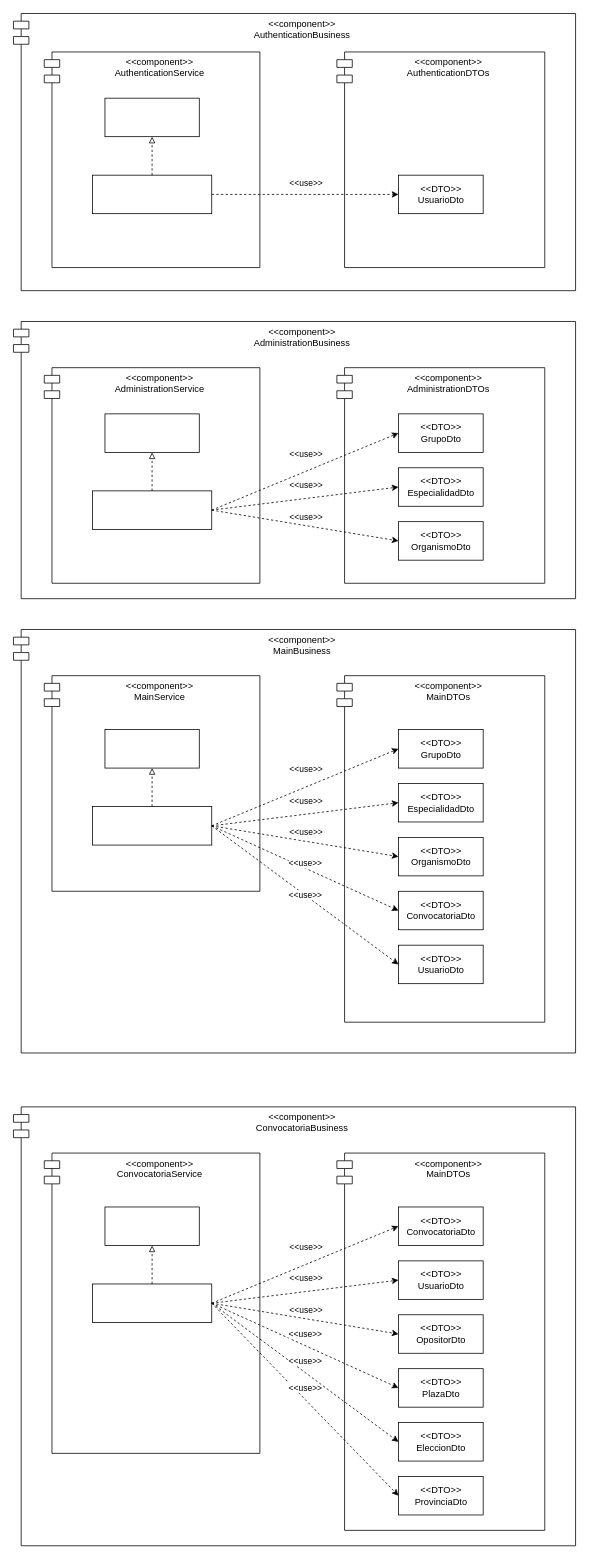
Image size: 589x1559. Some labels were removed from this diagram. Here are the shapes that lost their labels. From the top down, the centre of each, then its label:
the point at 151,117: <<Interface>> AuthenticationService
the point at 152,194: <<Implementation>> AuthenticationServiceImpl
the point at 151,432: <<Interface>> AdministrationService
the point at 152,509: <<Implementation>> AdministrationServiceImpl
the point at 151,748: <<Interface>> MainService
the point at 152,825: <<Implementation>> MainServiceImpl
the point at 151,1225: <<Interface>> ConvocatoriaService
the point at 152,1302: <<Implementation>> ConvocatoriaServiceImpl
